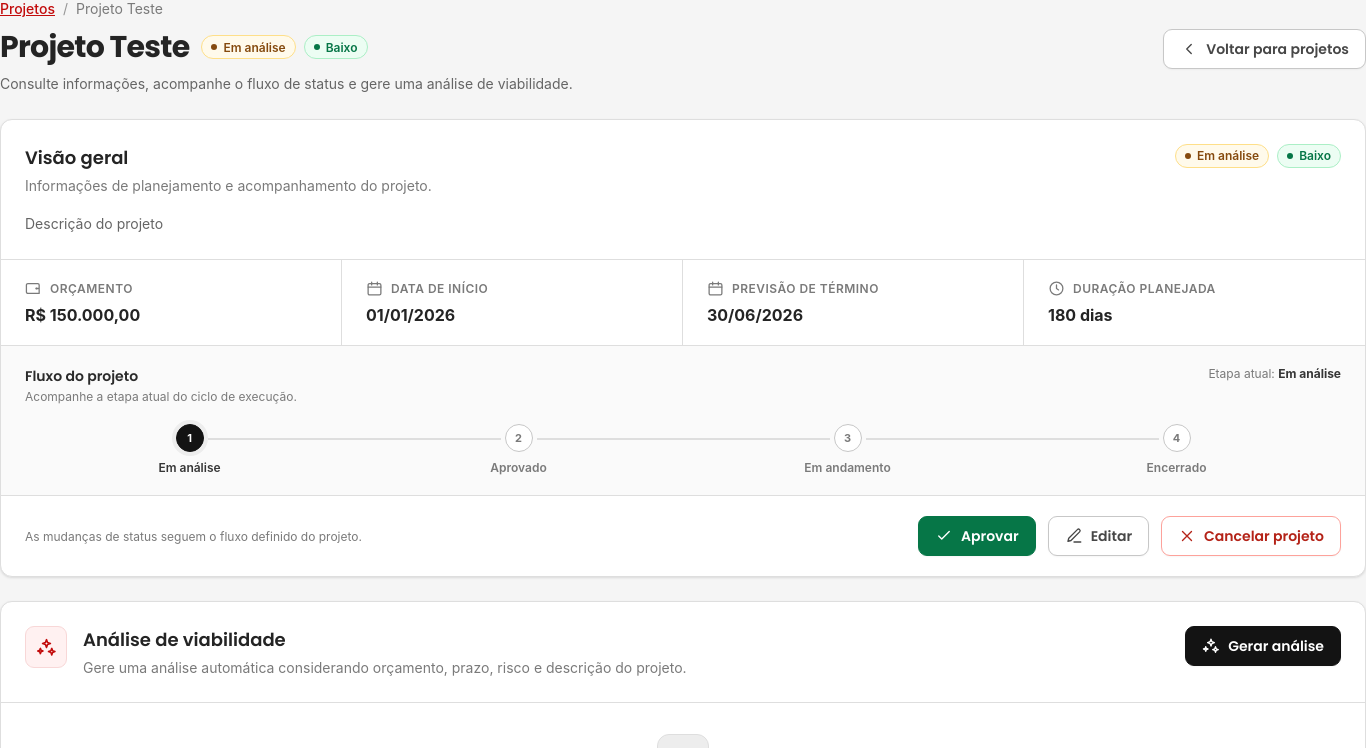
Test: ProjectDetailPage — AI analysis › displays AI analysis summary, attention points, and executive recommendation
Check: the heading "Projeto Teste" is shown, box x1=0 y1=29 x2=190 y2=65
Note: Click to generate analysis
Click the button "Gerar análise": [1263, 646] box x1=1185 y1=626 x2=1341 y2=666
(page scrolled)
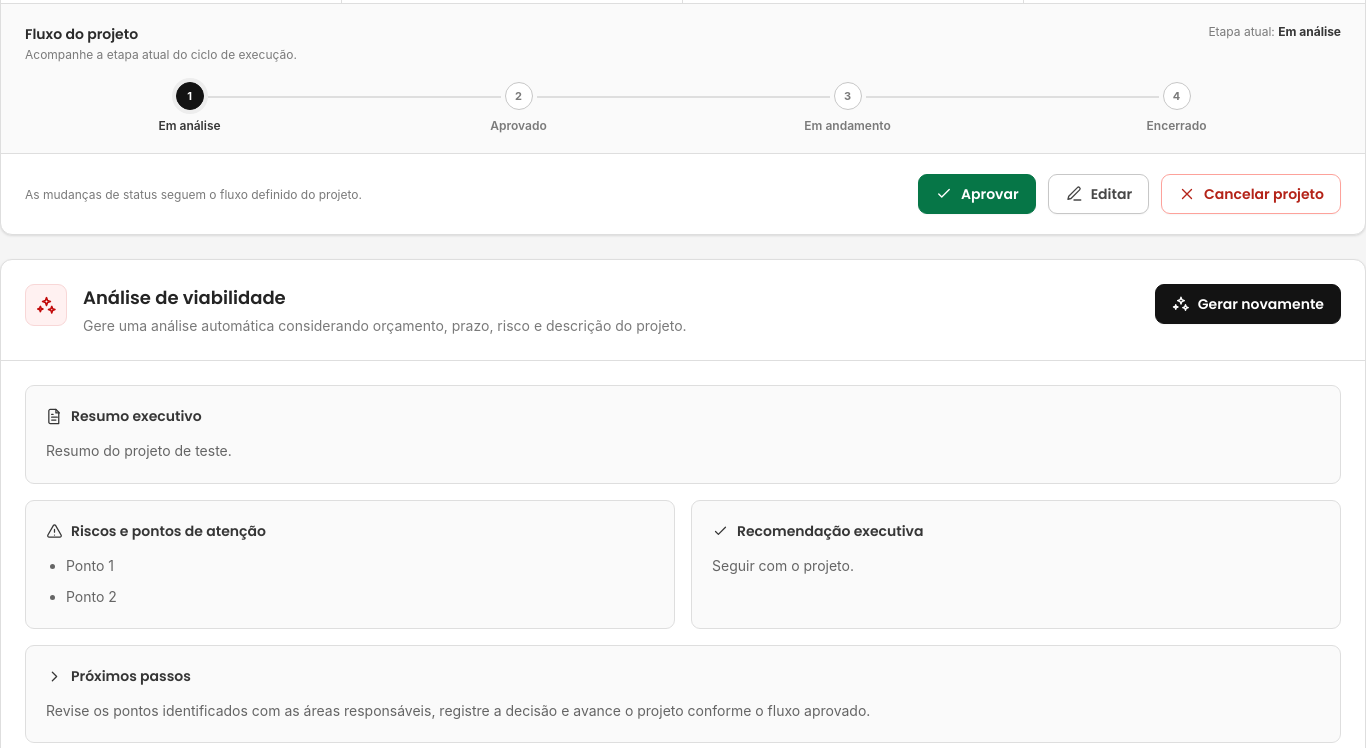
Check: the text "Resumo do projeto de teste." is shown, box x1=46 y1=442 x2=232 y2=460
Check: the list item "Ponto 1" is shown, box x1=66 y1=557 x2=114 y2=574
Check: the list item "Ponto 2" is shown, box x1=66 y1=588 x2=117 y2=605
